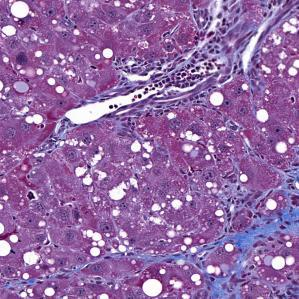fibrosis: (201, 225, 277, 298)
